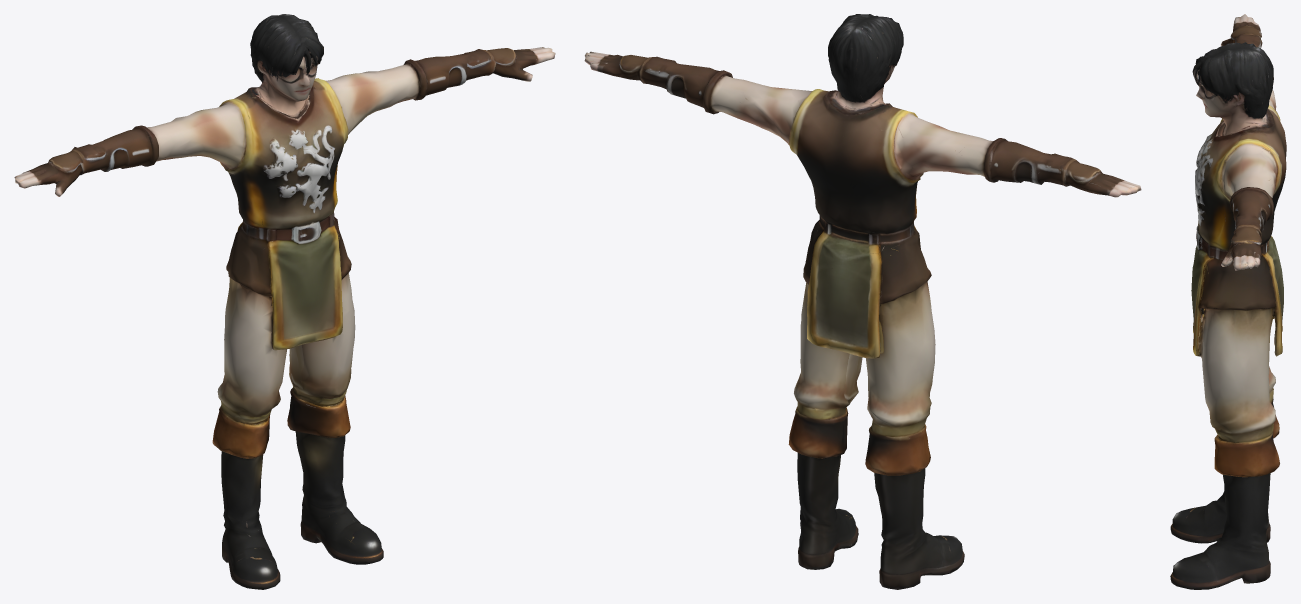
File: Meshy_AI_Knight_0106050737_texture.fbx
The picture shows the model from 3 angles, left to right: view 1: azimuth 30°, elevation 25°; view 2: azimuth 150°, elevation 25°; view 3: azimuth 270°, elevation 25°; orthographic projection. The views are drawn at different scales.
Parts seen in each view (by area): view 1: Mesh1.0; view 2: Mesh1.0; view 3: Mesh1.0.
Part boxes in pixels (x1,y1,x2,y2): Mesh1.0: [14, 14, 555, 589]; Mesh1.0: [584, 14, 1141, 589]; Mesh1.0: [1170, 14, 1286, 589].
Bounding box in the file's own units: 192 × 182 × 37.43.
1 material, 1 textured.
